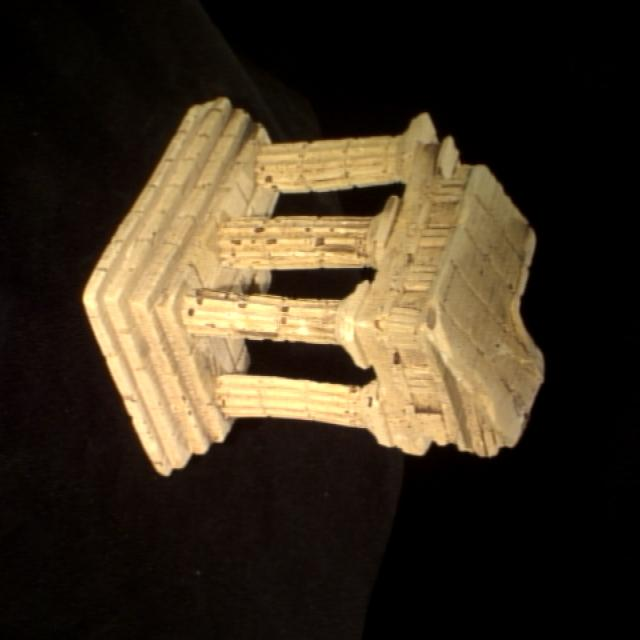Instance-Segmentation: (84, 97, 543, 473)
